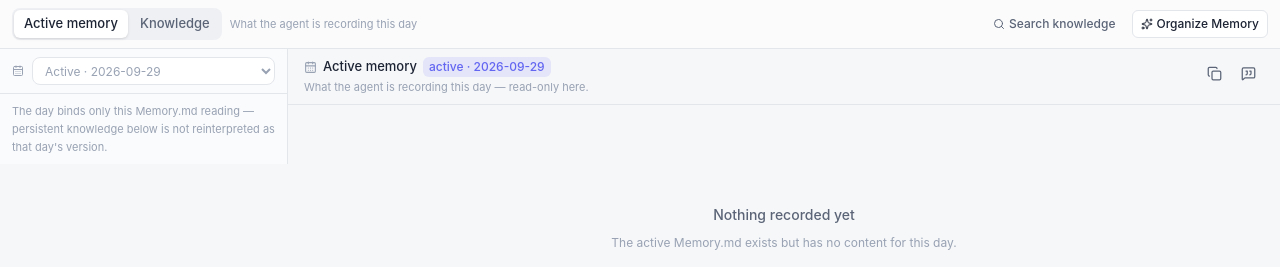
MemoryPage knowledge catalog › uses the same kind icon and Chinese label in the document header
Click the button "Knowledge" at coordinates (175, 24), box [130,10,220,38]
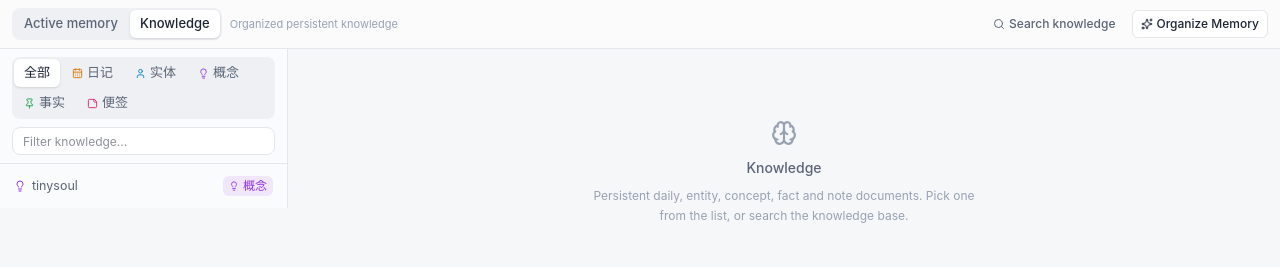
Click the button "tinysoul 概念" at coordinates (55, 185), box [6,170,281,202]
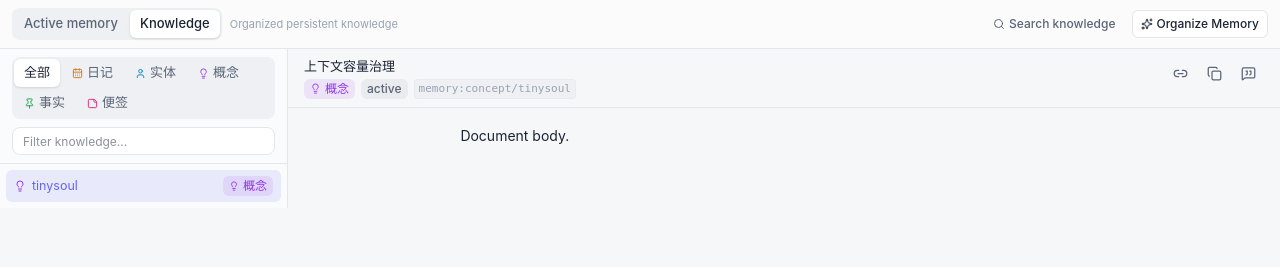
Check: the icon with class "lucide-lightbulb" in the row of "memory:concept/tinysoul" is shown, box [310,83,321,94]
Check: the text titled "memory:concept/tinysoul" reads "上下文容量治理", box [304,58,395,74]
Check: the text with class "border" reads "memory:concept/tinysoul", box [419,82,571,94]
